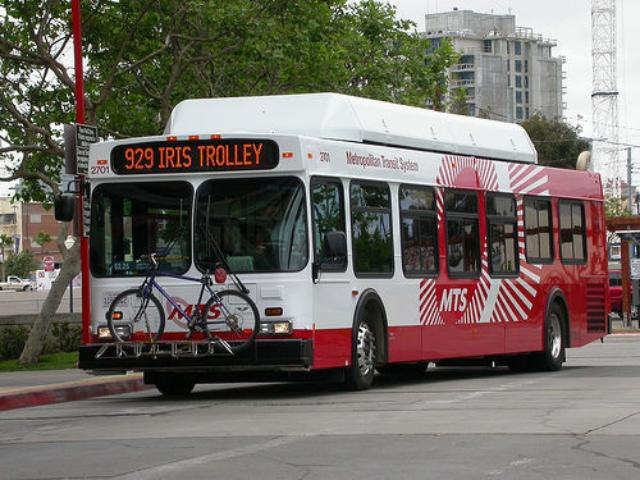bus: (77, 92, 613, 397)
